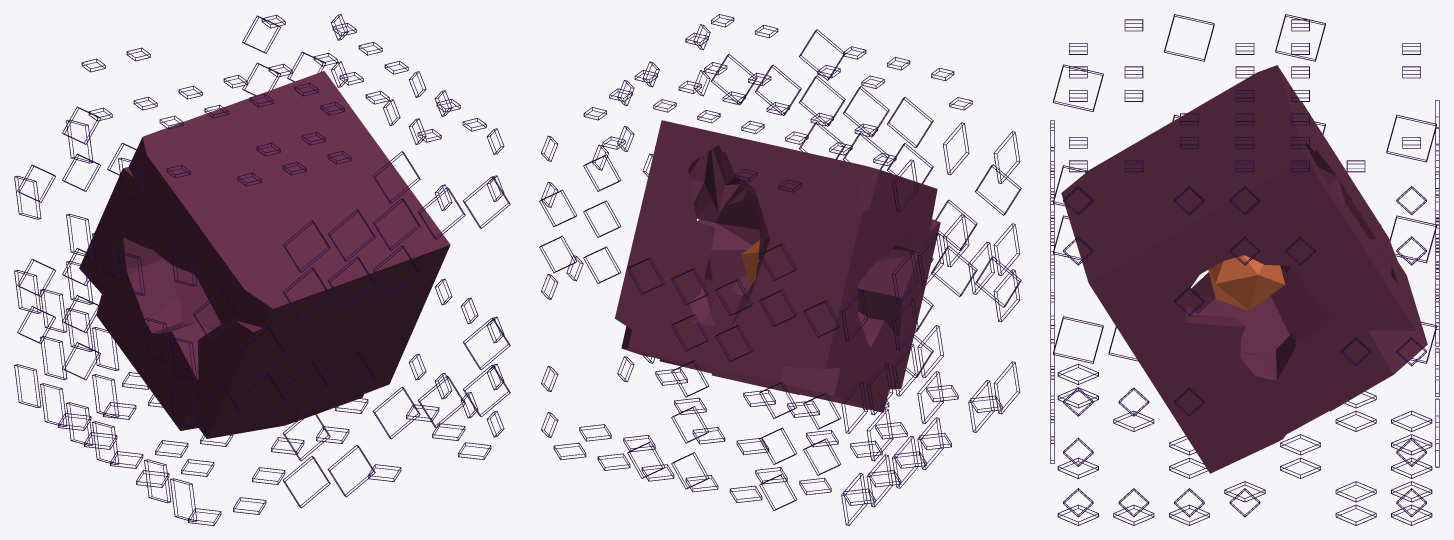
Rendered from Planet30.glb.
3 views of the same model, side by side, from view 1: azimuth 30°, elevation 25°; view 2: azimuth 150°, elevation 25°; view 3: azimuth 270°, elevation 25° (orthographic). The views are drawn at different scales.
Visible parts, largest first — view 1: Planet_30; view 2: Planet_30; view 3: Planet_30.
Part boxes in pixels (x1,y1,x2,y2): Planet_30: (14,14,510,525); Planet_30: (539,14,1021,525); Planet_30: (1050,14,1439,525).
Size of the model in its own units: 2.26 by 2.26 by 2.26.
